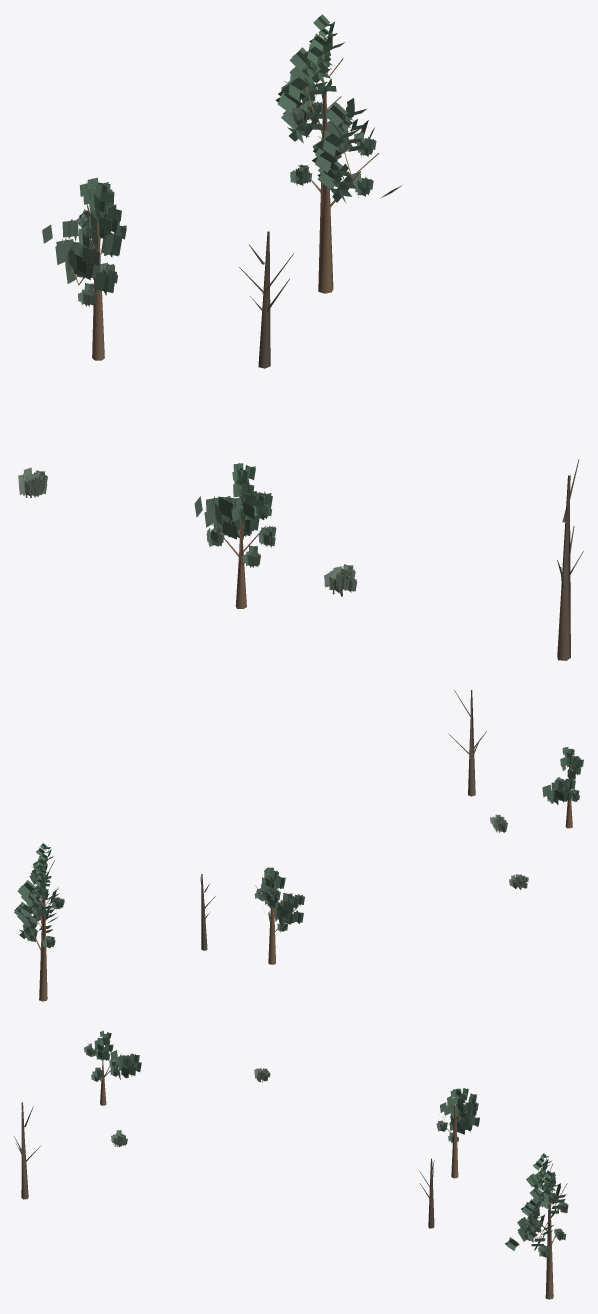
The model's file is frost_land_scatter_c22_10.glb.
3 views of the same model, one above another, from view 1: azimuth 30°, elevation 25°; view 2: azimuth 150°, elevation 25°; view 3: azimuth 270°, elevation 25° (orthographic). The views are drawn at different scales.
Visible parts, largest first — view 1: frost_land_scatter_c22_10; view 2: frost_land_scatter_c22_10; view 3: frost_land_scatter_c22_10.
Part boxes in pixels (left/top/right/bottom): frost_land_scatter_c22_10: left=18, top=14, right=583, bottom=660; frost_land_scatter_c22_10: left=14, top=690, right=583, bottom=1001; frost_land_scatter_c22_10: left=14, top=1030, right=568, bottom=1299.
Size of the model in its own units: 31.59 by 13.08 by 46.52.
